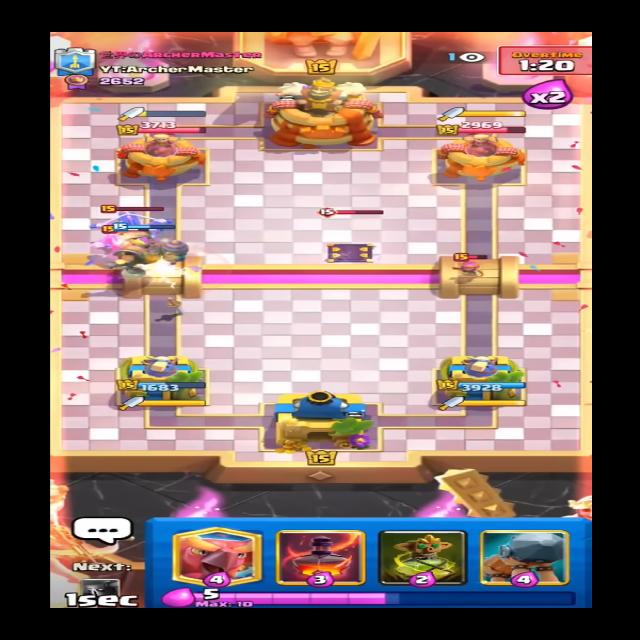archer: (456, 256, 488, 280)
evo-tesla-closed: (308, 208, 390, 266)
x-bow: (89, 203, 171, 249)
